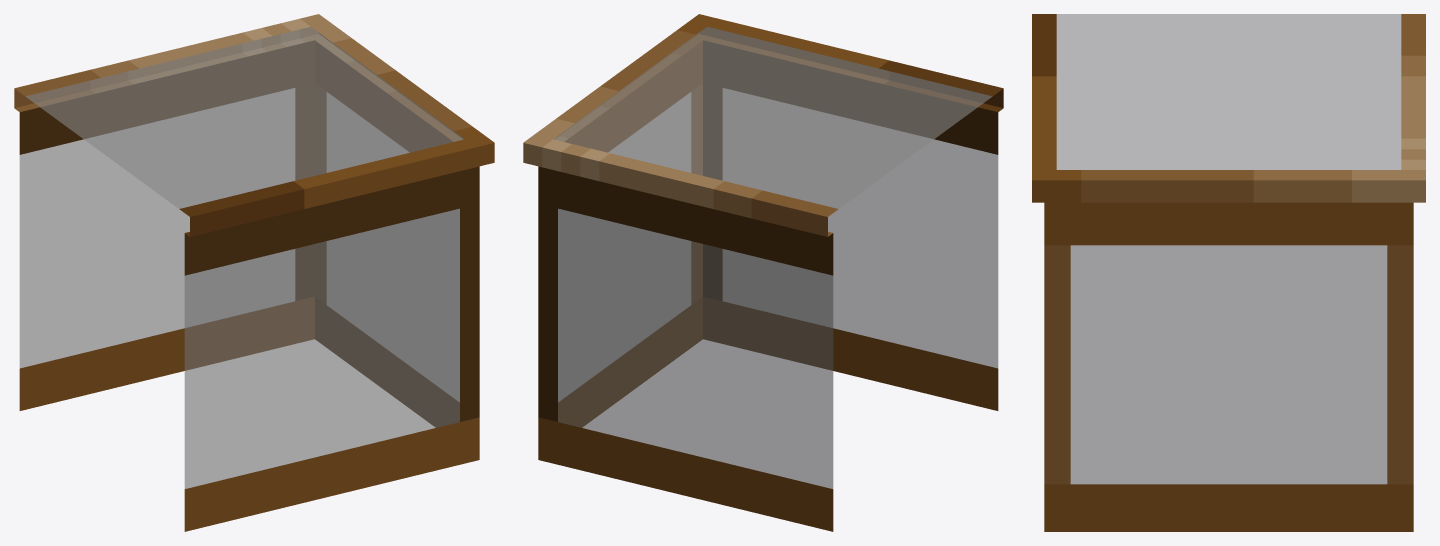
File: counter_518x01.gltf
3 renders of one model, left to right at view 1: azimuth 30°, elevation 25°; view 2: azimuth 150°, elevation 25°; view 3: azimuth 270°, elevation 25°, orthographic. The views are drawn at different scales.
Parts seen in each view (by area): view 1: Counter_518x01; view 2: Counter_518x01; view 3: Counter_518x01.
Boxes of the visible parts, x1,y1,x2,y2 form: Counter_518x01: [14, 14, 494, 531]; Counter_518x01: [523, 14, 1003, 531]; Counter_518x01: [1032, 14, 1425, 531].
Size of the model in its own units: 2.07 by 2.07 by 2.07.
1 material, 1 textured.
